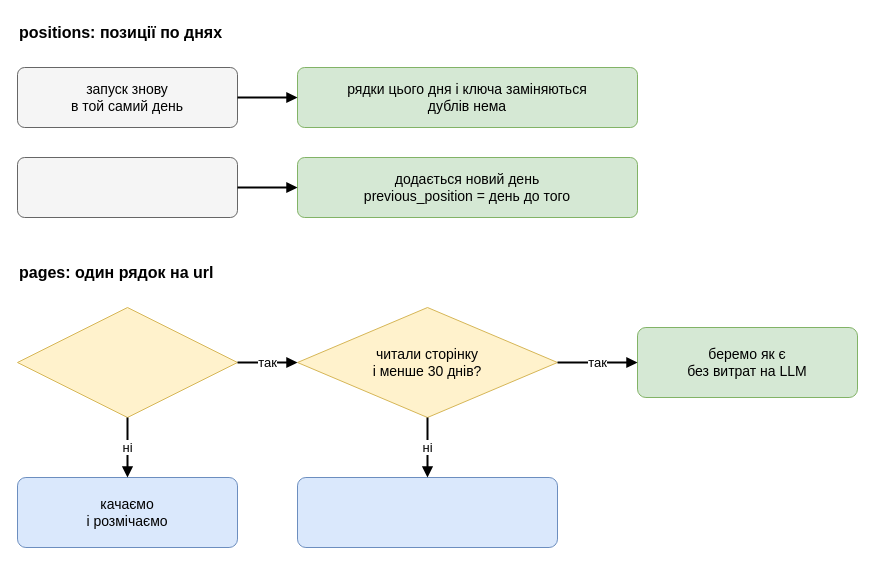
Image size: 875x565. Some labels were removed from this diagram. The centre of each missing label's shape, as x and y in pixels:
"url вже розмічений?" belongs at point (127, 362).
"запуск наступного дня" belongs at point (127, 187).
"розмічаємо знову сніпет, старе, --reanalyze" belongs at point (427, 512).
